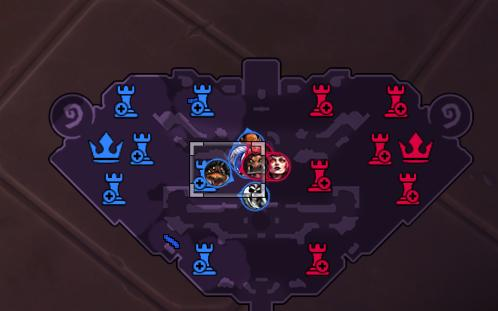blue nexus: (88, 130, 124, 162)
blue player: (239, 181, 269, 211), (201, 158, 232, 187), (236, 127, 265, 155), (228, 144, 251, 177)
blue tower: (187, 82, 215, 117), (191, 158, 218, 193), (100, 171, 127, 205), (128, 131, 154, 166), (112, 83, 138, 118), (191, 241, 216, 275), (191, 175, 217, 192)
red nexus: (397, 131, 433, 163)
red player: (238, 148, 268, 178), (264, 151, 291, 181)
red tower: (308, 82, 334, 117), (306, 158, 332, 192), (383, 83, 408, 118), (395, 171, 420, 205), (367, 131, 392, 165), (304, 242, 329, 275)
